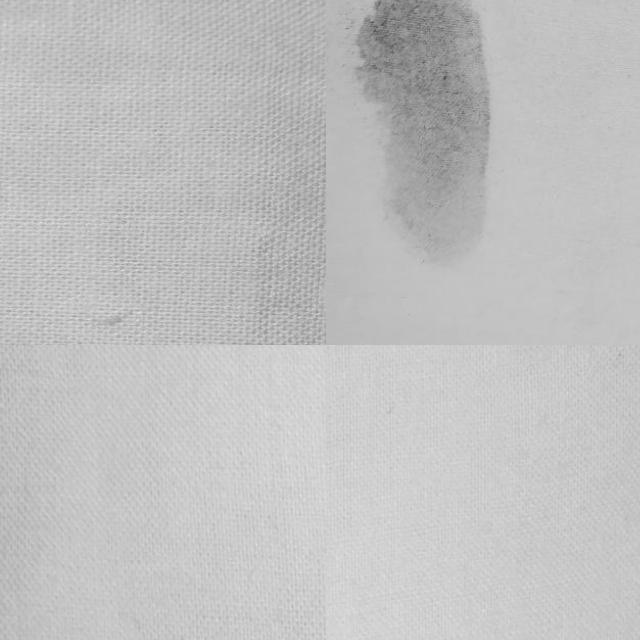Thread_other: (332, 0, 510, 267)
